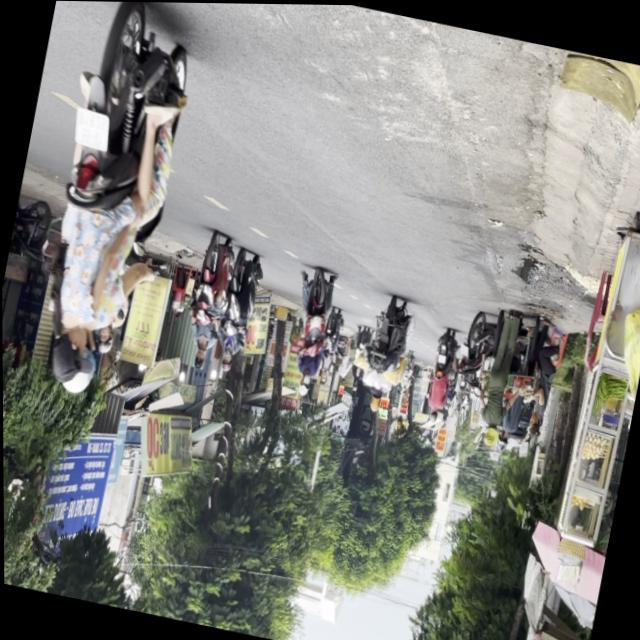helmet: (58, 327, 103, 400)
licenseplate: (16, 0, 209, 411), (176, 229, 238, 374)
motorcyclist: (44, 319, 86, 385), (190, 344, 207, 372)
nohelmet: (70, 109, 113, 152)
